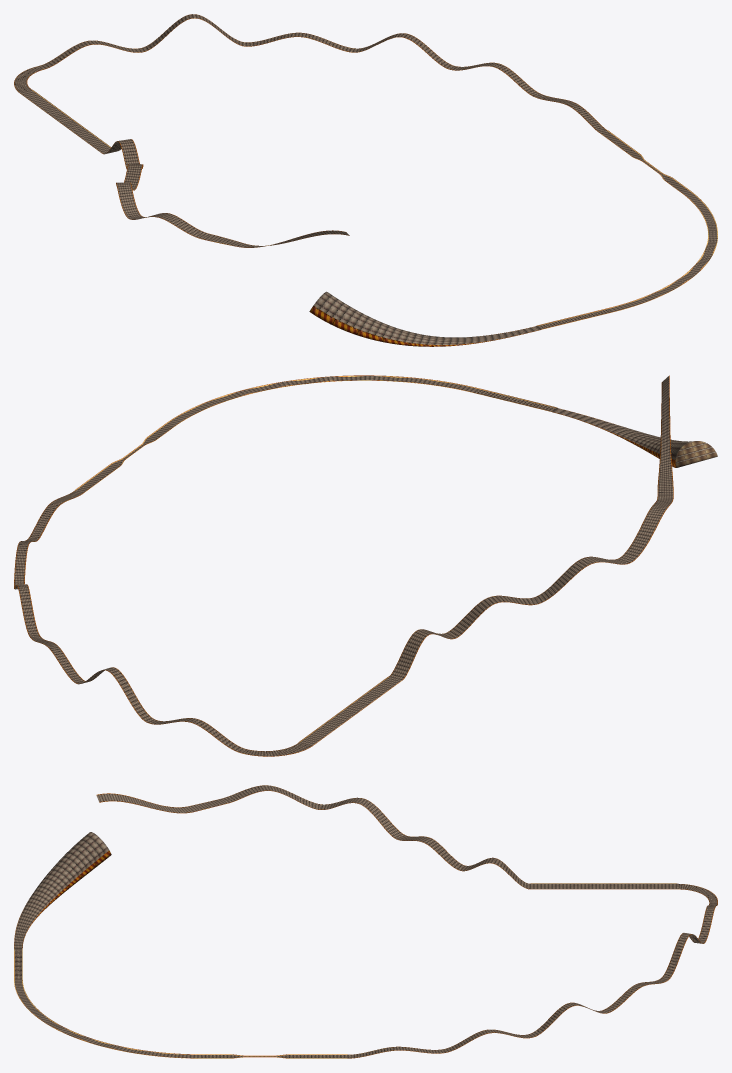
3 renders of one model, top to bottom at view 1: azimuth 30°, elevation 25°; view 2: azimuth 150°, elevation 25°; view 3: azimuth 270°, elevation 25°, orthographic. The views are drawn at different scales.
Bounding box in the file's own units: 10452 × 2031 × 14430.
Materials: 7 (7 with a texture image).
